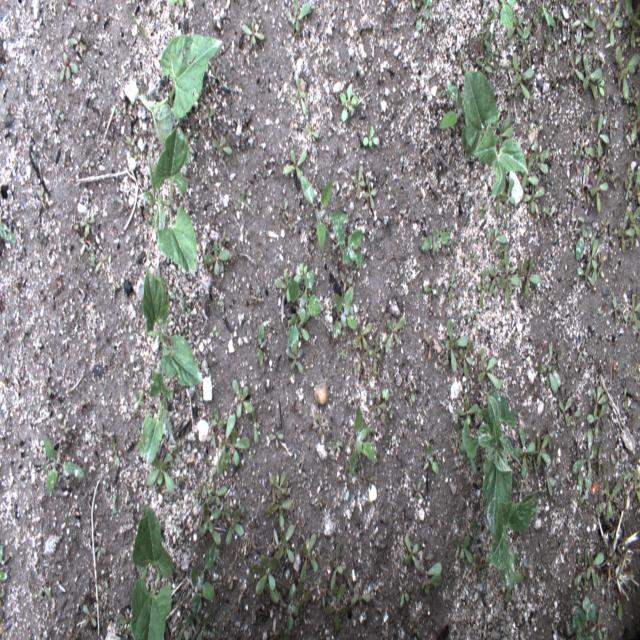crop: (453, 384, 524, 539), (136, 33, 222, 152), (137, 126, 196, 272), (463, 70, 528, 198), (142, 266, 203, 384), (486, 489, 541, 603), (131, 505, 173, 639), (138, 362, 176, 464), (482, 0, 516, 29)
weed: (300, 174, 350, 251), (206, 407, 251, 474), (286, 268, 322, 348), (37, 436, 84, 494), (439, 75, 471, 159), (572, 428, 604, 496), (500, 252, 540, 306), (190, 542, 218, 618), (350, 406, 378, 478), (581, 112, 610, 171), (439, 320, 468, 374), (485, 14, 518, 60), (578, 236, 603, 296), (612, 46, 640, 99), (522, 138, 550, 188), (574, 543, 605, 588), (251, 556, 280, 602), (332, 286, 357, 338), (538, 340, 562, 394), (582, 164, 608, 213), (567, 1, 595, 46), (332, 225, 363, 265), (324, 584, 349, 633), (80, 227, 108, 270), (528, 431, 554, 477), (593, 480, 622, 521), (205, 230, 231, 275), (514, 424, 535, 478), (533, 0, 556, 49), (582, 52, 605, 101), (146, 453, 174, 493), (267, 483, 292, 527), (572, 595, 597, 639), (198, 502, 221, 546), (420, 548, 442, 594), (290, 307, 310, 355), (512, 52, 532, 100), (222, 501, 243, 546), (274, 270, 302, 303), (273, 522, 294, 564), (605, 1, 623, 49), (300, 534, 318, 582), (506, 10, 531, 44), (421, 226, 451, 254), (339, 82, 359, 124), (478, 348, 498, 390), (384, 315, 406, 353), (280, 584, 298, 630), (232, 379, 253, 418), (290, 577, 312, 614), (282, 148, 307, 180), (624, 0, 640, 50), (242, 16, 266, 49), (559, 394, 581, 428), (286, 0, 310, 31), (125, 8, 148, 40), (494, 112, 514, 148), (455, 397, 478, 428), (618, 208, 634, 252), (403, 534, 421, 572), (488, 261, 506, 299), (329, 544, 343, 592), (60, 51, 80, 84), (522, 184, 544, 214), (626, 96, 640, 142), (352, 321, 373, 351), (369, 329, 382, 377), (624, 469, 640, 508), (453, 534, 473, 565), (588, 403, 606, 436), (459, 339, 474, 378), (590, 385, 608, 417), (628, 294, 640, 342), (624, 166, 640, 202), (575, 224, 590, 262), (235, 183, 256, 209), (361, 178, 378, 210), (192, 479, 212, 506), (350, 582, 370, 609), (423, 442, 439, 474), (270, 470, 288, 498), (568, 50, 584, 81), (174, 614, 193, 640), (286, 347, 304, 374), (485, 226, 507, 248), (295, 75, 307, 115), (397, 575, 412, 607), (416, 1, 432, 30), (478, 267, 489, 309), (628, 207, 640, 244), (195, 614, 212, 640), (212, 134, 232, 156), (206, 486, 228, 506), (362, 125, 380, 149), (502, 178, 514, 214), (80, 209, 96, 235), (107, 435, 120, 467), (612, 296, 628, 322), (316, 582, 332, 607), (461, 516, 477, 541), (268, 425, 285, 448), (201, 104, 216, 130), (369, 394, 387, 415), (354, 164, 365, 198), (132, 388, 145, 416), (258, 322, 266, 367), (382, 388, 394, 418), (424, 278, 439, 302), (541, 475, 558, 496), (250, 403, 259, 442), (447, 267, 457, 302), (82, 603, 96, 628), (0, 222, 17, 242), (94, 533, 105, 563), (591, 612, 603, 639), (542, 201, 556, 224), (70, 32, 86, 52), (116, 613, 131, 633), (339, 270, 353, 291), (522, 39, 536, 60), (475, 56, 492, 73), (476, 198, 489, 220), (312, 413, 326, 433), (557, 12, 568, 37), (462, 455, 477, 473), (228, 564, 238, 590), (614, 588, 622, 620), (344, 571, 355, 594), (355, 348, 366, 371), (479, 28, 490, 51), (250, 287, 264, 305), (495, 241, 509, 259), (82, 156, 95, 175), (38, 579, 51, 598), (412, 479, 423, 501), (36, 187, 46, 211), (198, 252, 208, 276), (590, 44, 598, 74), (496, 192, 506, 215), (332, 435, 344, 454), (476, 21, 488, 38), (577, 339, 585, 364), (306, 124, 320, 138), (571, 216, 585, 230), (436, 357, 449, 372), (628, 86, 638, 105), (607, 119, 616, 140), (211, 64, 220, 84), (279, 201, 289, 219), (456, 53, 466, 71), (600, 217, 610, 234), (300, 262, 308, 281), (182, 298, 190, 314), (632, 142, 640, 158), (168, 0, 183, 7), (554, 41, 558, 67), (410, 384, 415, 404), (624, 387, 628, 412), (213, 324, 220, 338), (338, 349, 346, 359), (112, 495, 116, 514), (0, 571, 7, 580), (0, 544, 3, 563), (212, 628, 216, 640), (574, 143, 577, 156), (0, 591, 6, 597)
